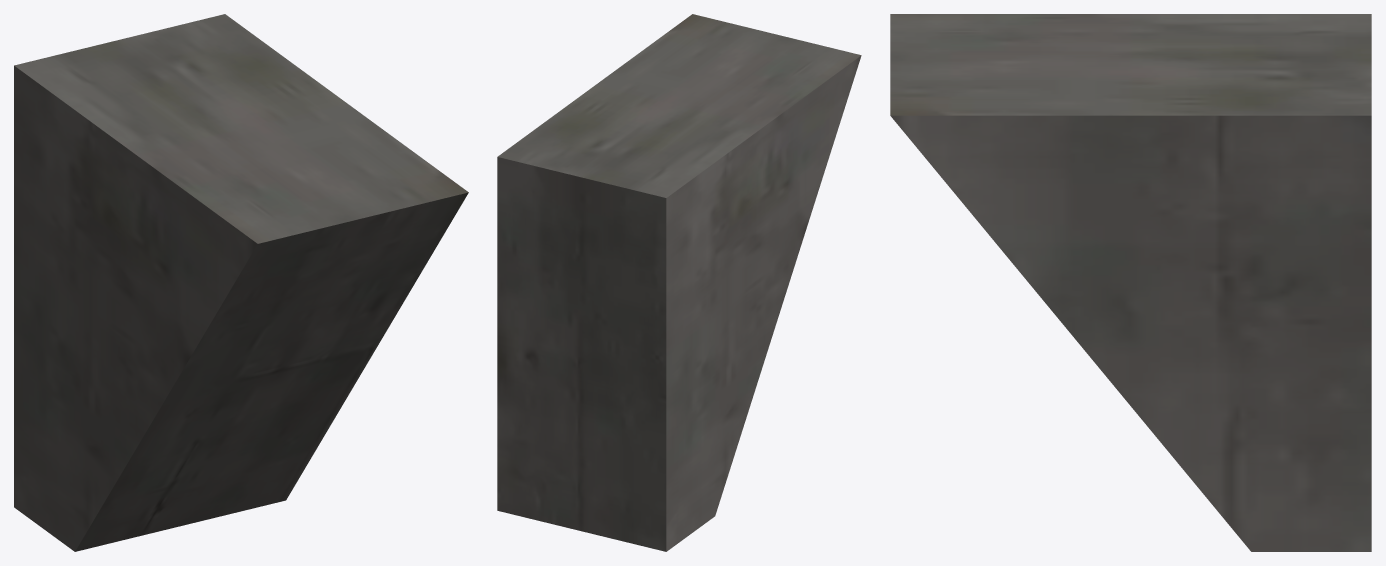
The model's file is downward_angled_50cm_endCap_2.glb.
3 renders of one model, left to right at view 1: azimuth 30°, elevation 25°; view 2: azimuth 150°, elevation 25°; view 3: azimuth 270°, elevation 25°, orthographic. The views are drawn at different scales.
Parts seen in each view (by area): view 1: downward.angled.50cm.endCap.2; view 2: downward.angled.50cm.endCap.2; view 3: downward.angled.50cm.endCap.2.
Part boxes in pixels (x1,y1,x2,y2): downward.angled.50cm.endCap.2: [14, 14, 468, 551]; downward.angled.50cm.endCap.2: [497, 14, 861, 551]; downward.angled.50cm.endCap.2: [890, 14, 1371, 551].
Bounding box in the file's own units: 0.25 × 0.5 × 0.5.
Materials: 1 (1 with a texture image).
